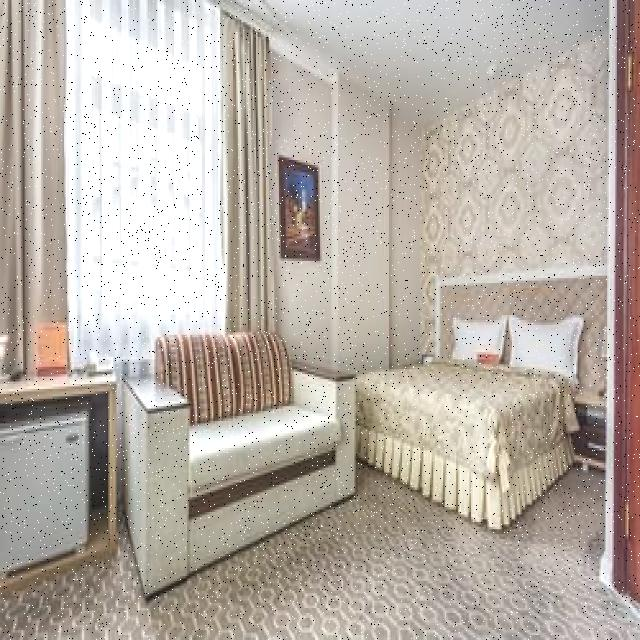bed: (364, 308, 581, 505)
